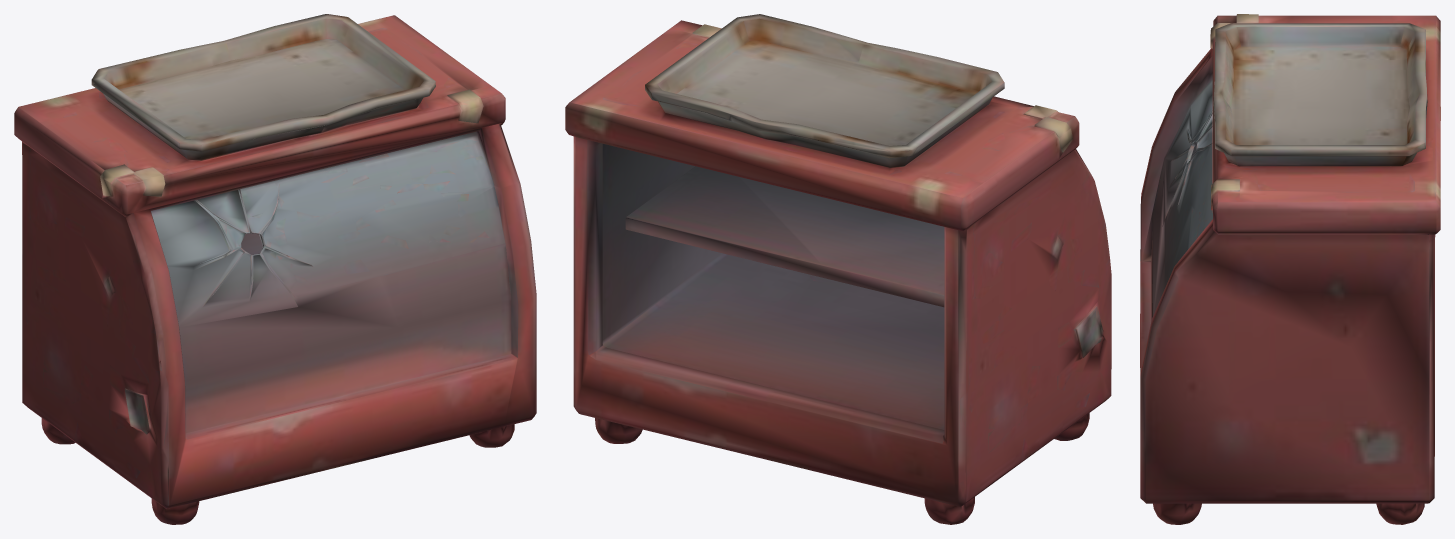
Rendered from shushigui-1.glb.
The picture shows the model from 3 angles, left to right: view 1: azimuth 30°, elevation 25°; view 2: azimuth 150°, elevation 25°; view 3: azimuth 270°, elevation 25°; orthographic projection. The views are drawn at different scales.
Parts seen in each view (by area): view 1: node_0; view 2: node_0; view 3: node_0.
Part boxes in pixels (x1,y1,x2,y2): node_0: [14, 14, 536, 524]; node_0: [565, 14, 1111, 524]; node_0: [1140, 14, 1440, 524].
Bounding box in the file's own units: 0.864 × 0.7464 × 0.5732.
1 material, 1 textured.
